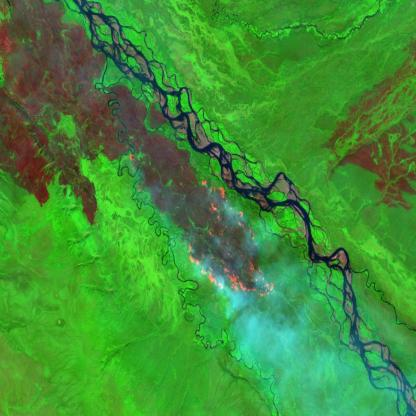fire: (187, 176, 275, 301)
